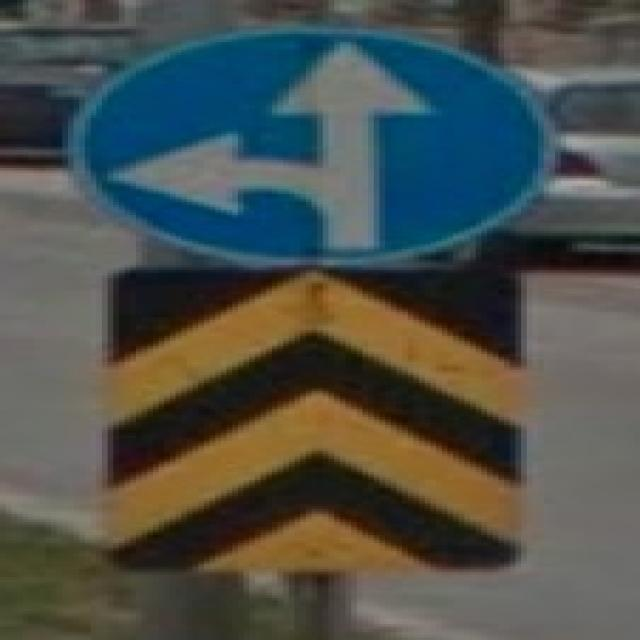Straight or Left: (66, 29, 548, 265)
